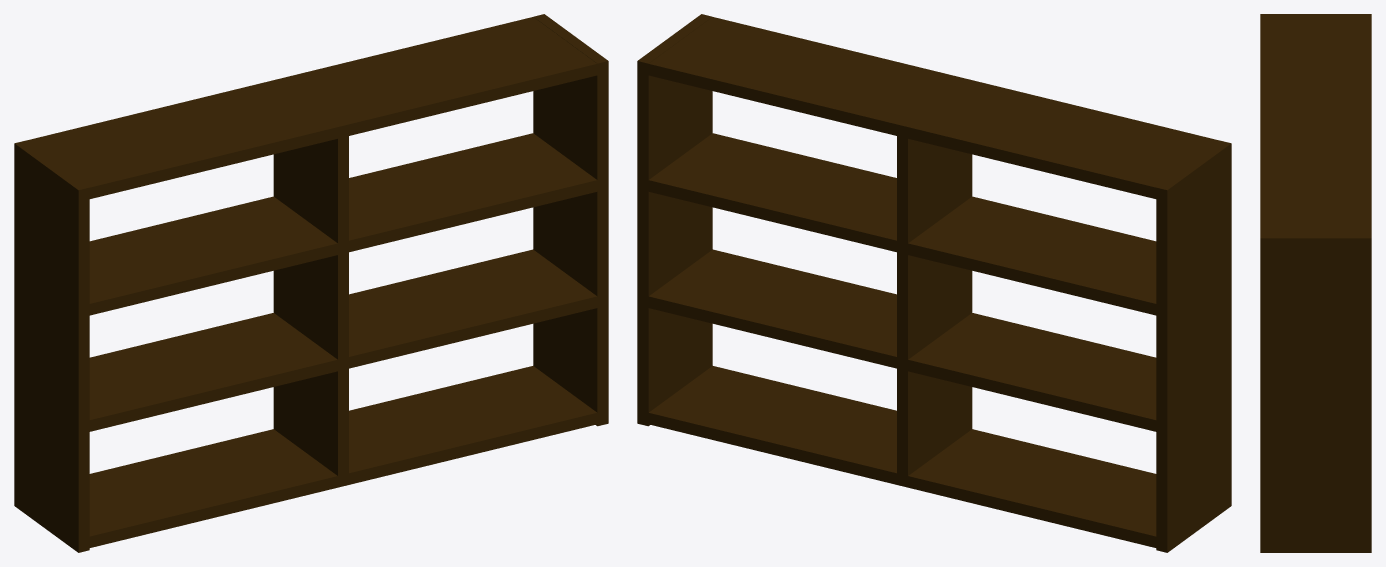
The model's file is rack.glb.
The picture shows the model from 3 angles, left to right: view 1: azimuth 30°, elevation 25°; view 2: azimuth 150°, elevation 25°; view 3: azimuth 270°, elevation 25°; orthographic projection. The views are drawn at different scales.
Parts seen in each view (by area): view 1: rack; view 2: rack; view 3: rack.
Boxes of the visible parts, x1=… form: rack: x1=14, y1=14, x2=608, y2=552; rack: x1=637, y1=14, x2=1231, y2=552; rack: x1=1260, y1=14, x2=1371, y2=552.
Bounding box in the file's own units: 9.54 × 6.24 × 2.
